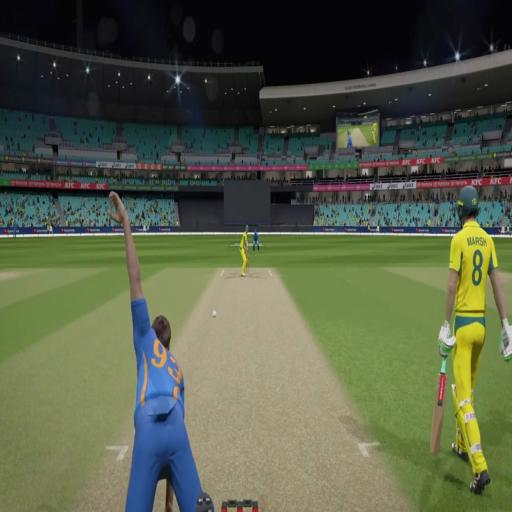ball: (212, 306, 216, 319)
